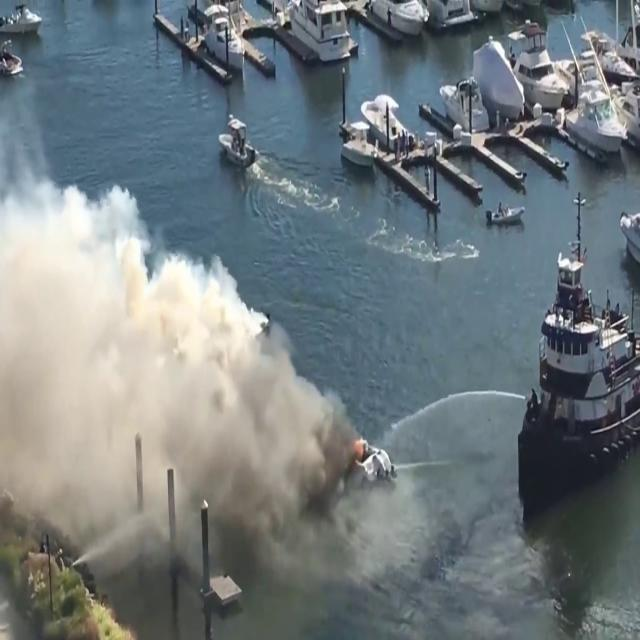Smoke: (0, 38, 370, 566)
